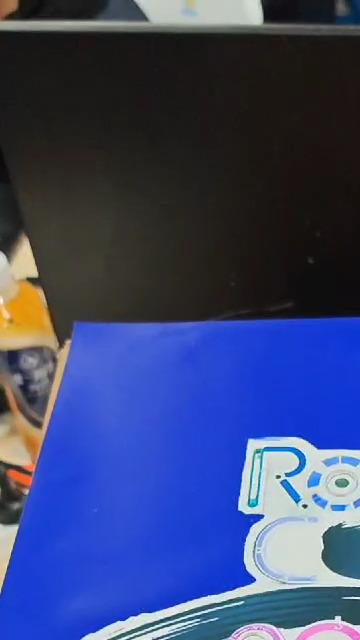B_R1: (25, 417, 360, 640)
